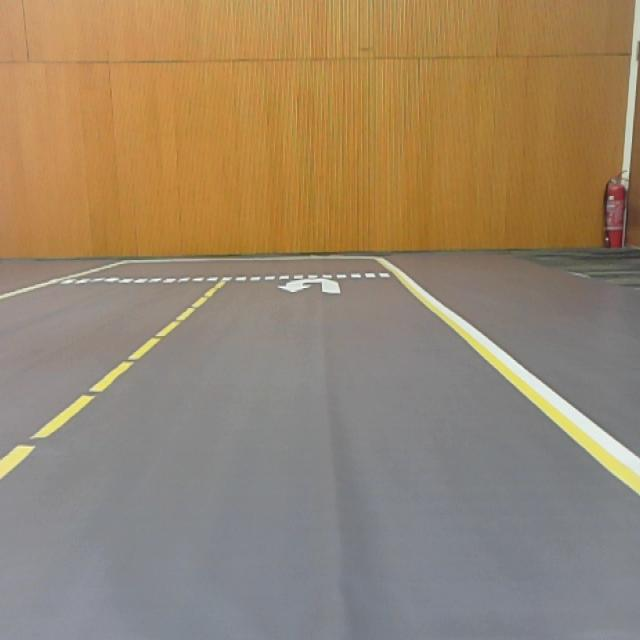left_lane: (0, 279, 224, 480)
right_lane: (388, 262, 640, 496), (0, 260, 122, 300)
